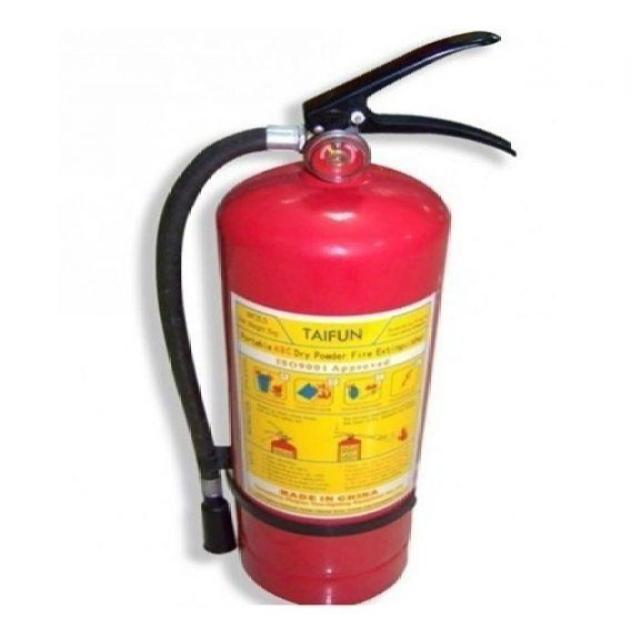fire_extinguisher: (149, 28, 523, 606)
